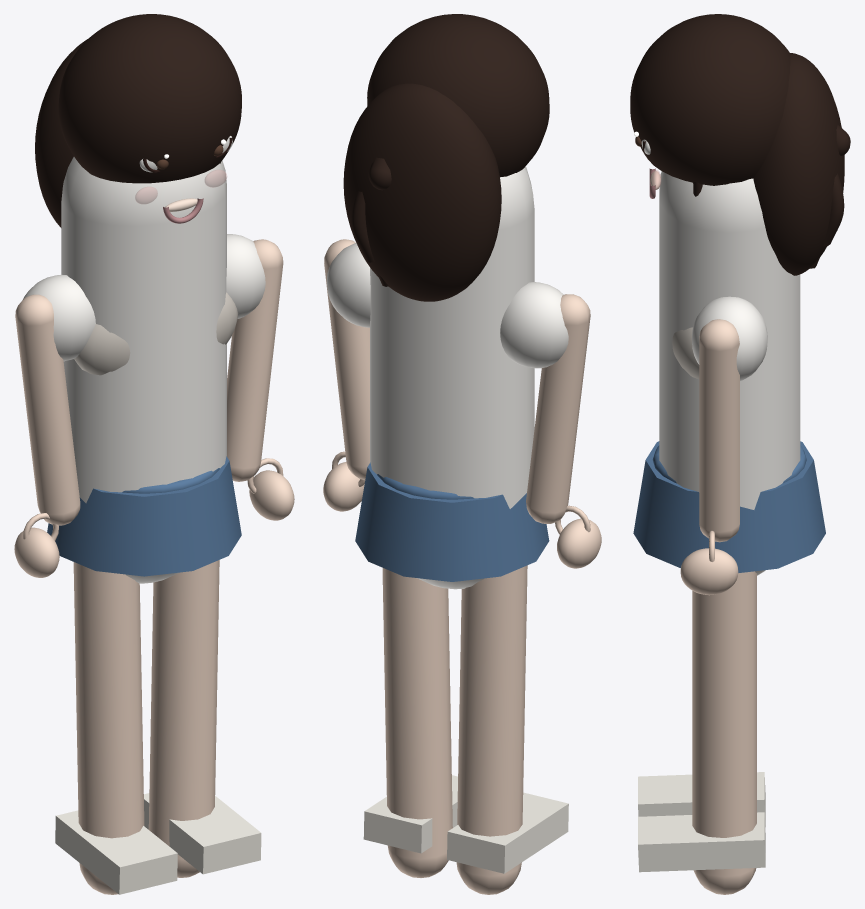
File: junior_2005_runtime_mobile.glb
3 renders of one model, left to right at view 1: azimuth 30°, elevation 25°; view 2: azimuth 150°, elevation 25°; view 3: azimuth 270°, elevation 25°, orthographic.
Parts seen in each view (by area): view 1: neck, torso_main, hair_cap, shorts_hip, shoe_l, torso_chest, shorts_waistband, cheek_blush_l, lip_arc; view 2: neck, torso_main, hair_cap, shorts_hip, shoe_l, shorts_waistband; view 3: hair_cap, torso_main, neck, shorts_hip, shoe_l, torso_chest, shorts_waistband.
Part boxes in pixels (x1,y1,x2,y2): neck: (14, 239, 294, 894); torso_main: (23, 157, 265, 583); hair_cap: (35, 14, 241, 227); shorts_hip: (47, 456, 241, 576); shoe_l: (55, 793, 261, 894); torso_chest: (74, 292, 238, 375); shorts_waistband: (122, 468, 219, 493); cheek_blush_l: (135, 170, 226, 203); lip_arc: (139, 136, 232, 223); neck: (323, 239, 601, 894); torso_main: (326, 166, 568, 589); hair_cap: (343, 14, 549, 301); shorts_hip: (355, 462, 549, 581); shoe_l: (363, 775, 568, 873); shorts_waistband: (377, 474, 473, 499); hair_cap: (630, 14, 850, 275); torso_main: (659, 171, 800, 575); neck: (680, 319, 756, 894); shorts_hip: (633, 441, 825, 572); shoe_l: (638, 772, 765, 872); torso_chest: (672, 327, 699, 379); shorts_waistband: (652, 445, 806, 483).
Bounding box in the file's own units: 0.5987 × 1.84 × 0.4303.
Materials: 16 (16 with a texture image).
